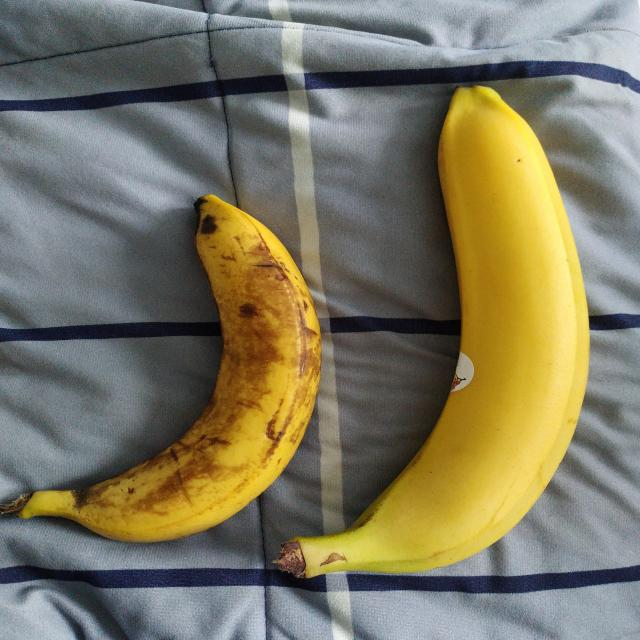Banana: (1, 194, 331, 548), (350, 85, 588, 575)
